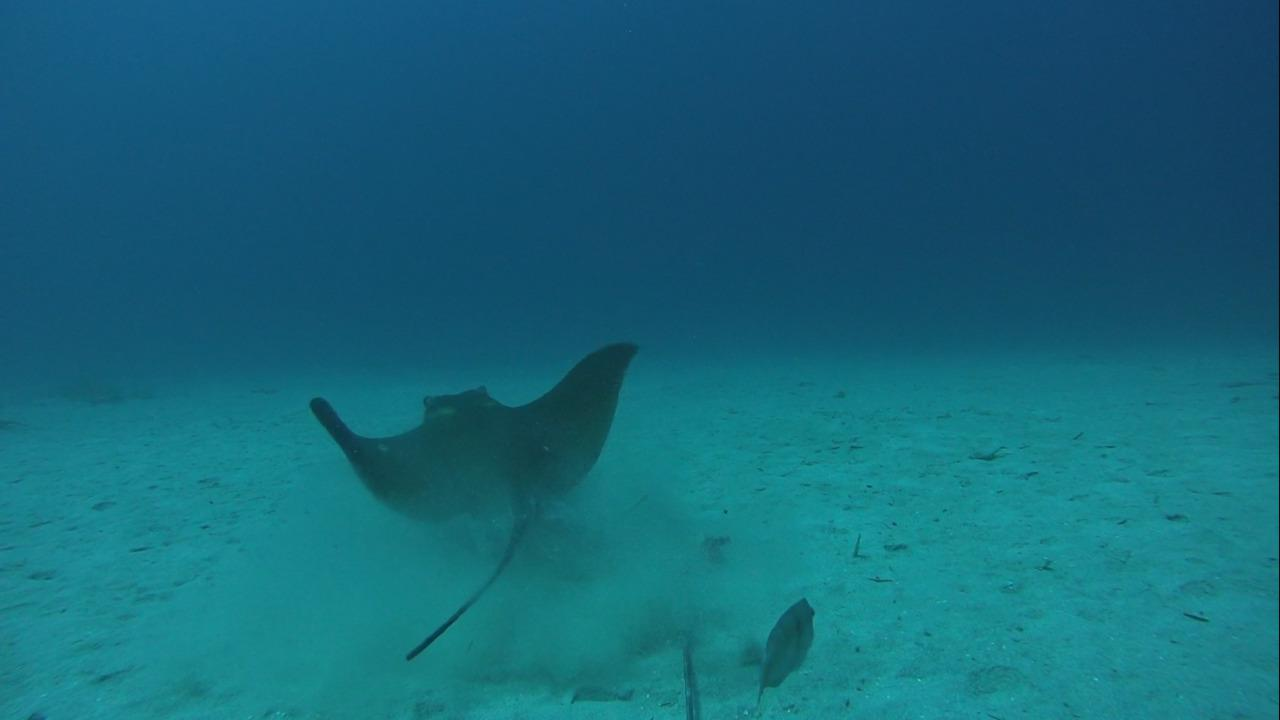myliobatis: (291, 334, 657, 667)
raor: (750, 595, 821, 697)
